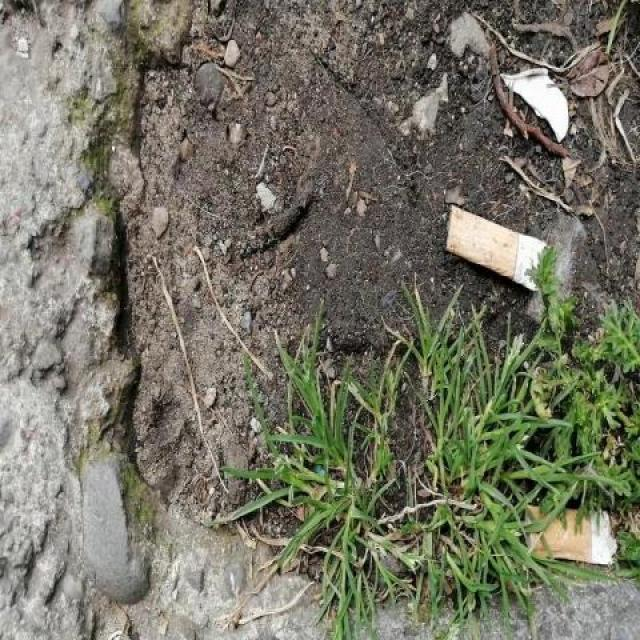non-organic waste: (442, 200, 553, 296), (521, 499, 623, 574)
